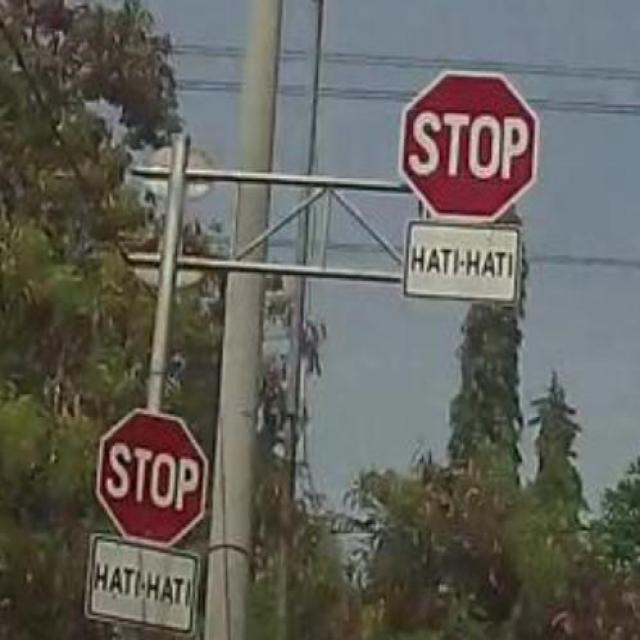traffic sign: (399, 70, 540, 222), (94, 410, 208, 546)
